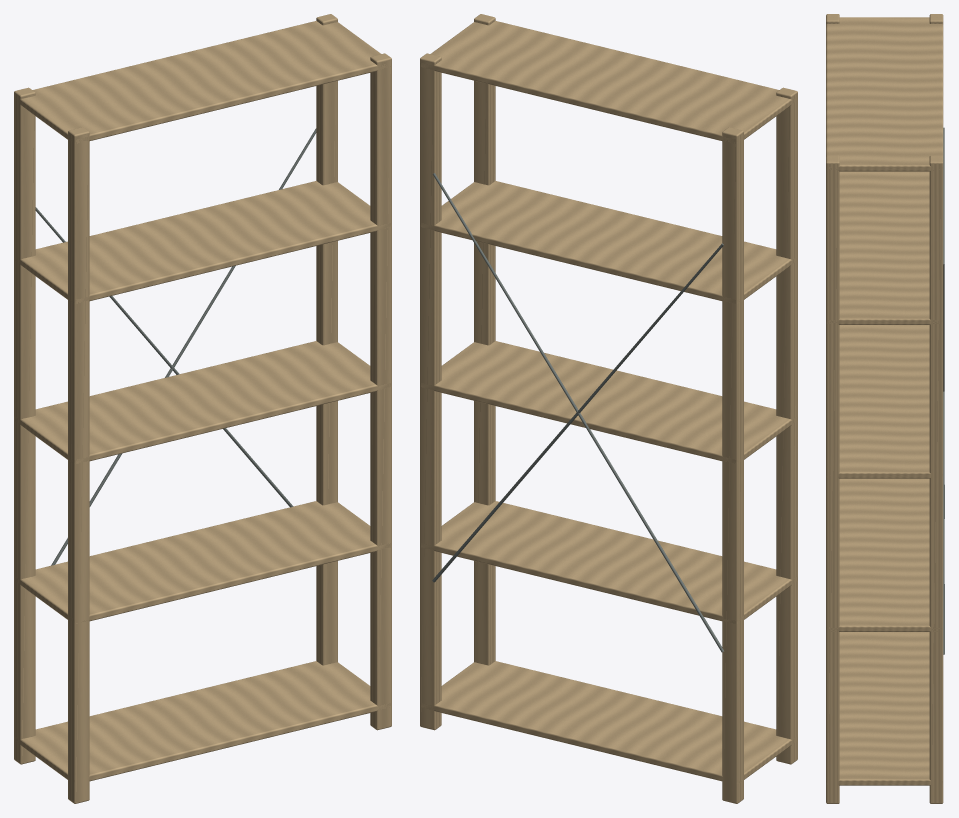
Rendered from ivar.glb.
3 renders of one model, left to right at view 1: azimuth 30°, elevation 25°; view 2: azimuth 150°, elevation 25°; view 3: azimuth 270°, elevation 25°, orthographic. The views are drawn at different scales.
Parts seen in each view (by area): view 1: IVAR Open pine shelving; view 2: IVAR Open pine shelving; view 3: IVAR Open pine shelving.
Part boxes in pixels (x1=…): IVAR Open pine shelving: x1=14, y1=14, x2=391, y2=803; IVAR Open pine shelving: x1=420, y1=14, x2=797, y2=803; IVAR Open pine shelving: x1=826, y1=14, x2=944, y2=803.
Bounding box in the file's own units: 0.89 × 1.79 × 0.3.
Materials: 2 (1 with a texture image).
